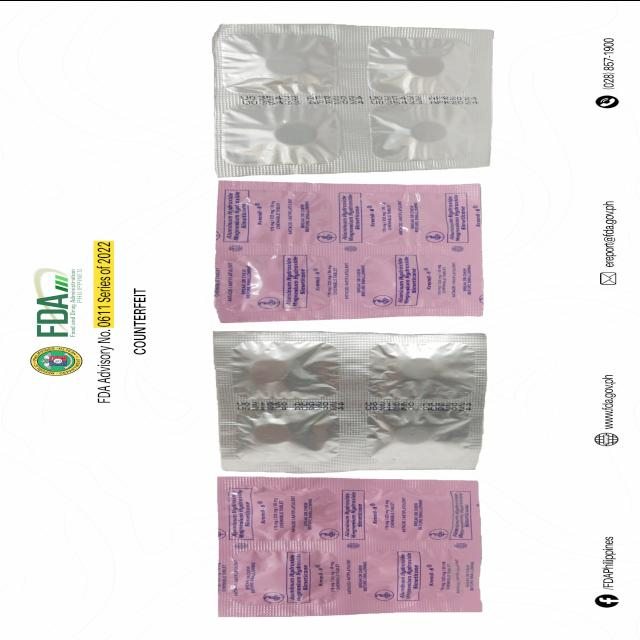counterfeit: (210, 27, 492, 175), (210, 180, 482, 326), (214, 478, 483, 620), (218, 331, 486, 469)
